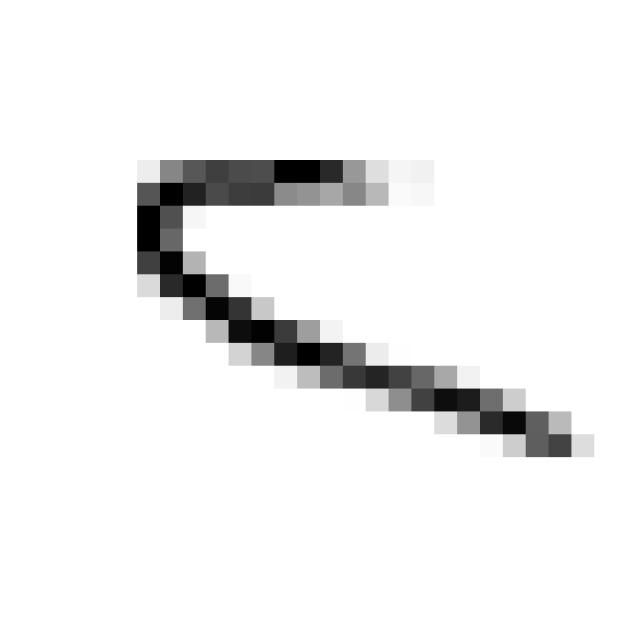2 -two-: (114, 130, 596, 482)
